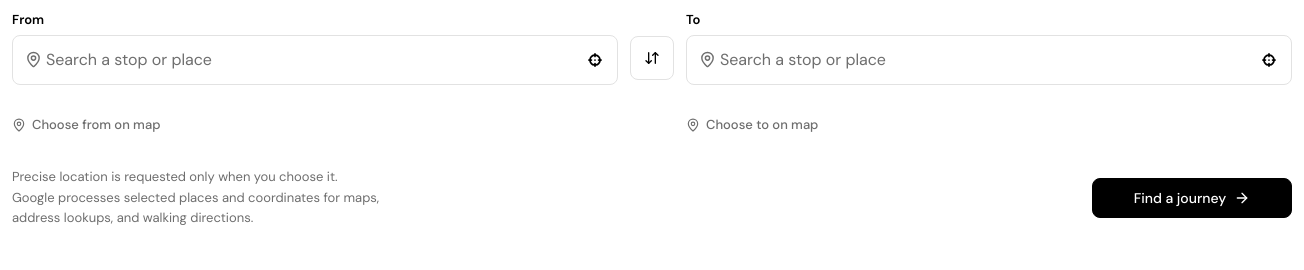
Test case: Guest journey form › requires selected locations and never requests location on mount
Click the button "Find a journey" at (1192, 198), box [1092, 178, 1292, 218]
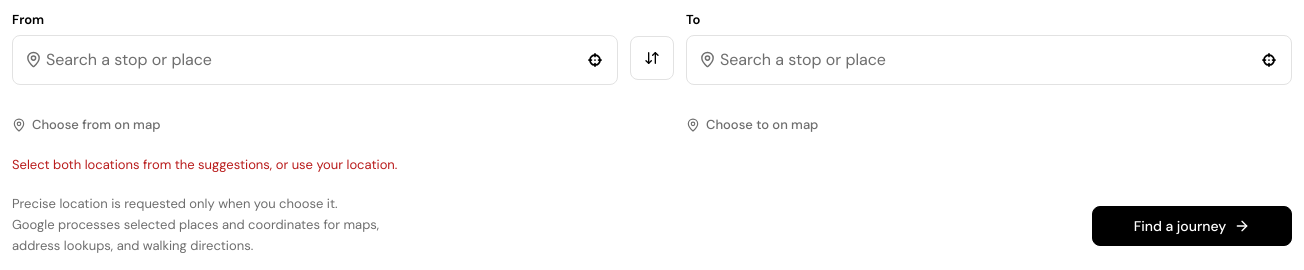
Check: the message shows "Select both", box [12, 156, 397, 173]
